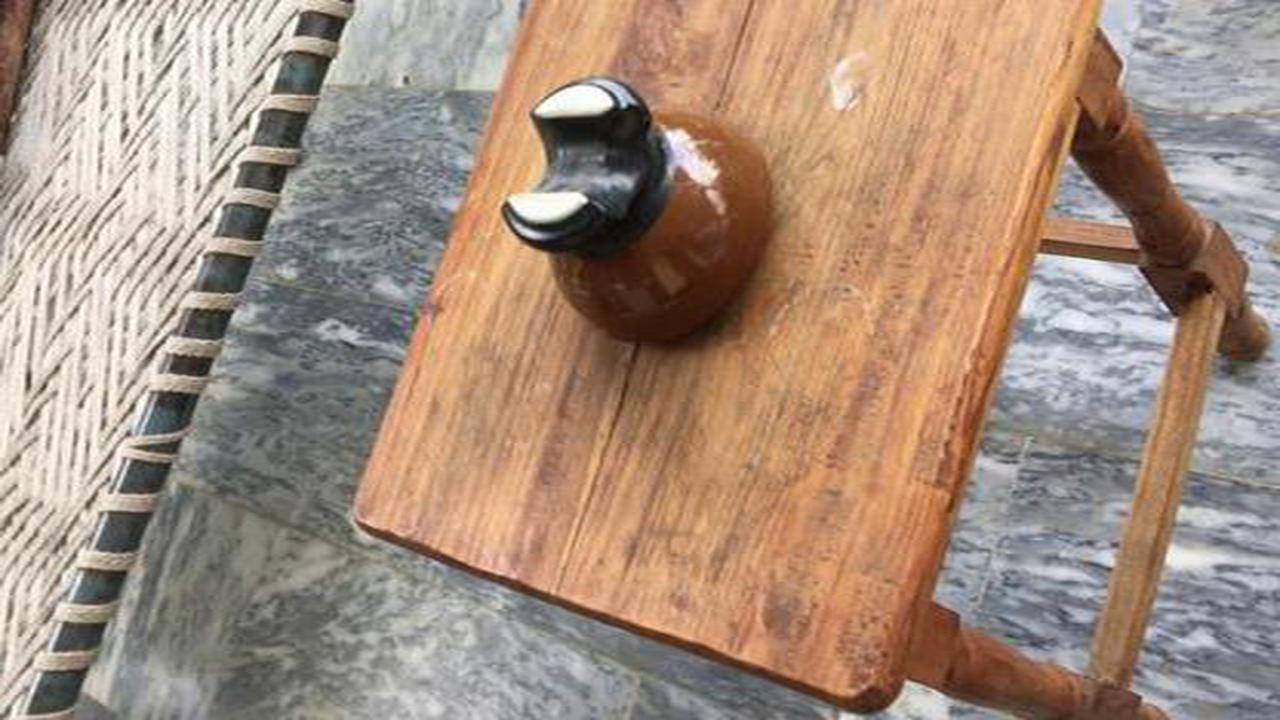insulator_pin: (490, 75, 797, 362)
